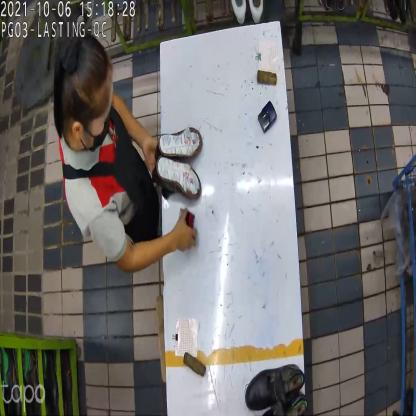shoes: (156, 125, 202, 201), (245, 362, 308, 416)
stamp: (176, 208, 196, 244), (258, 100, 276, 135)
